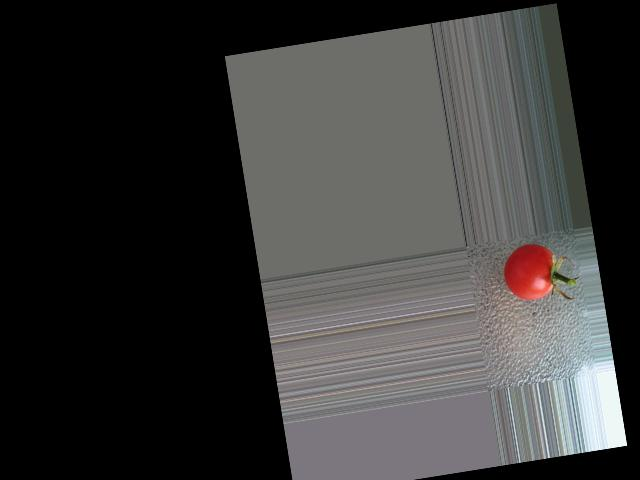tomato: (499, 241, 559, 305)
